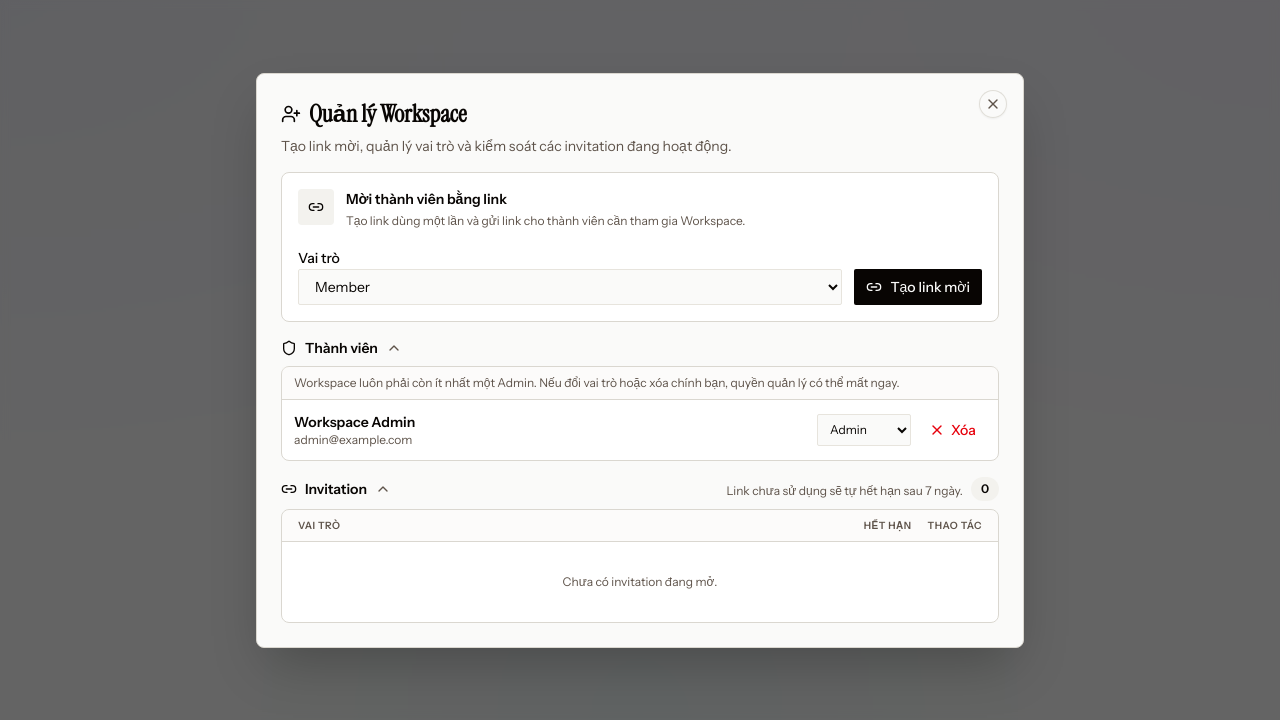
Test: WorkspaceManagementModal › creates a link-only invitation with the deployed URL
The image size is (1280, 720).
Check: the text "Workspace Admin" is shown, box [294,412,415,432]
Click the button "Tạo link mời".
click(918, 286)  # box [854,268,982,304]
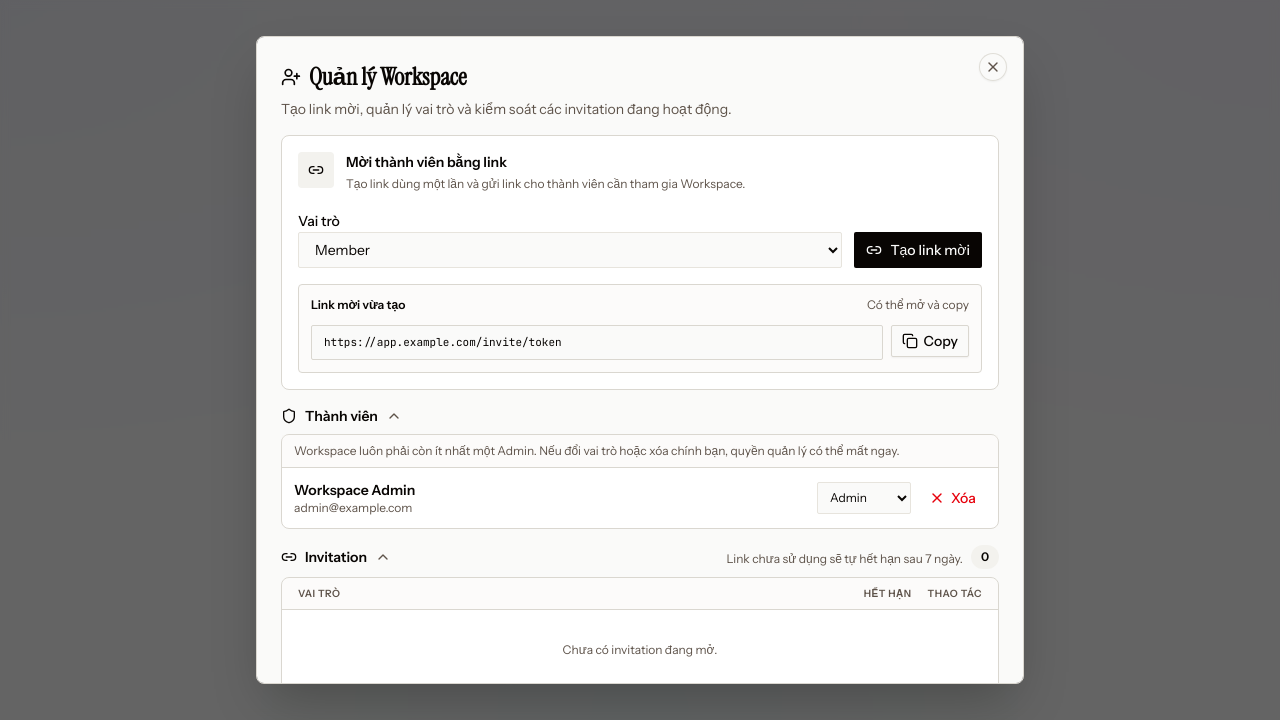
Click the button "Copy".
click(930, 341)  # box [890,325,969,357]
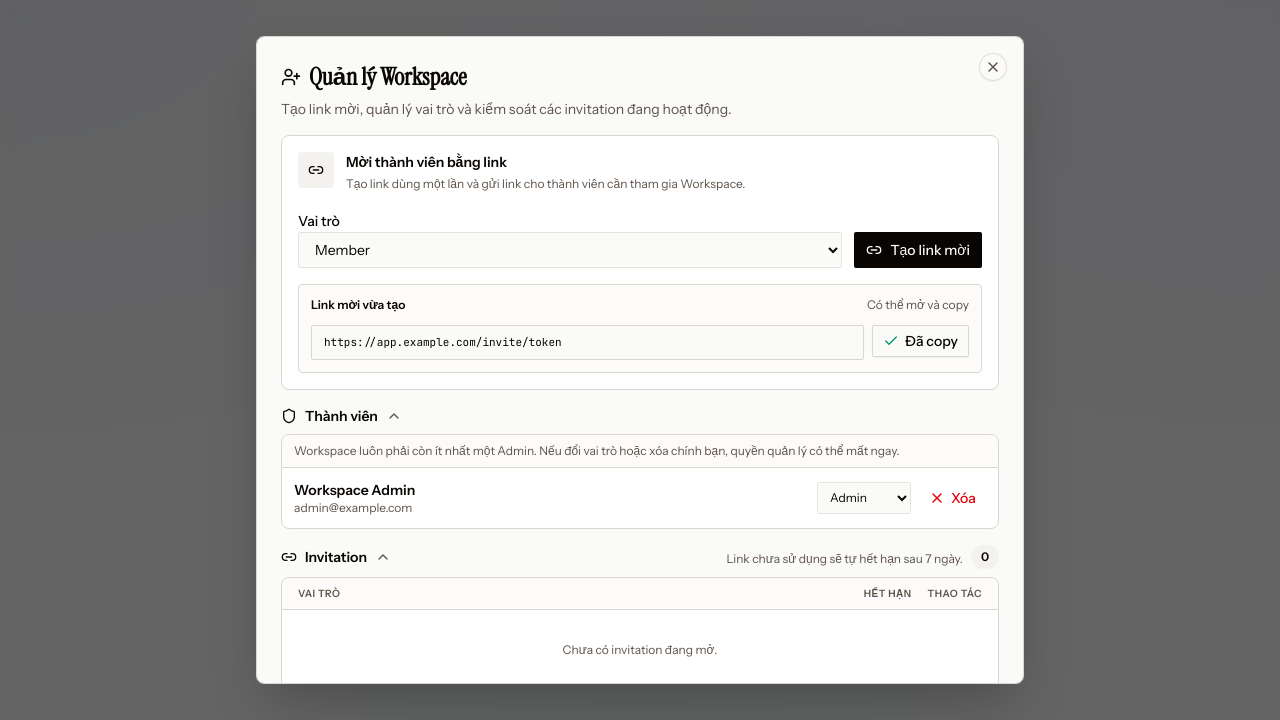
Check: the button "Đã copy" is shown, box [872,325,969,357]
